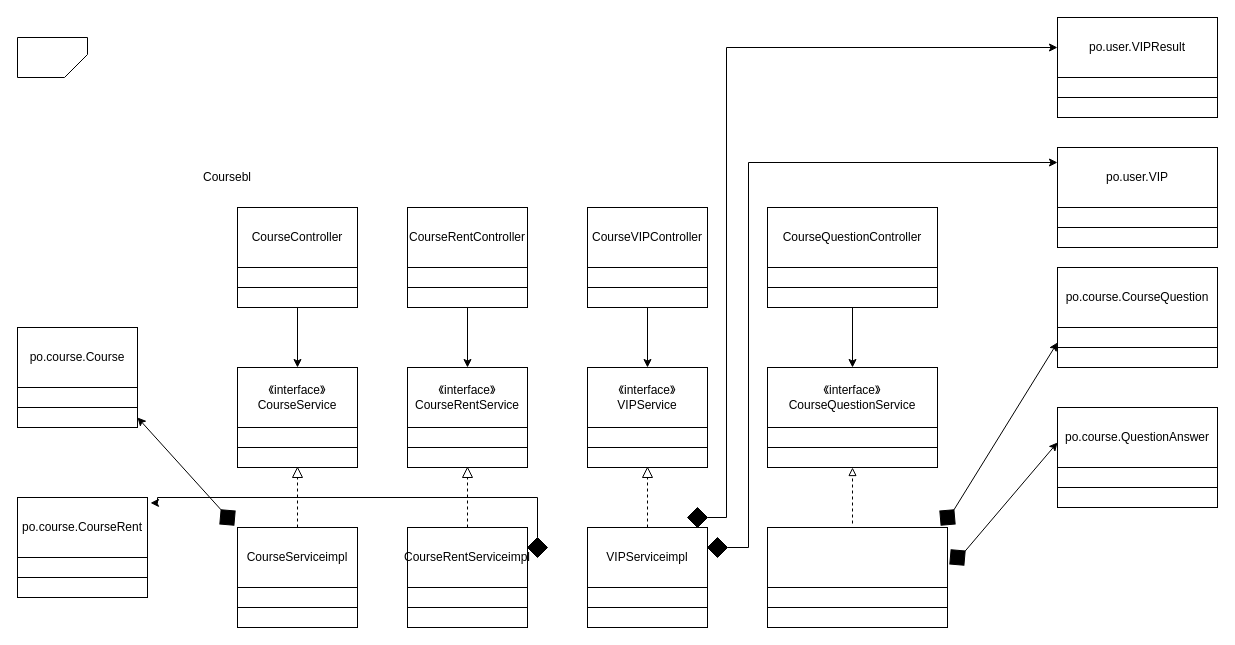
The diagram is 1235 pixels wide and 645 high, and some of its shapes have lost their labels. The box of each missing label's shape, as (x1, y1, x2, y2) in pixels:
CourseQuestionServiceimpl: (766, 526, 948, 588)
pkg: (16, 36, 88, 78)
